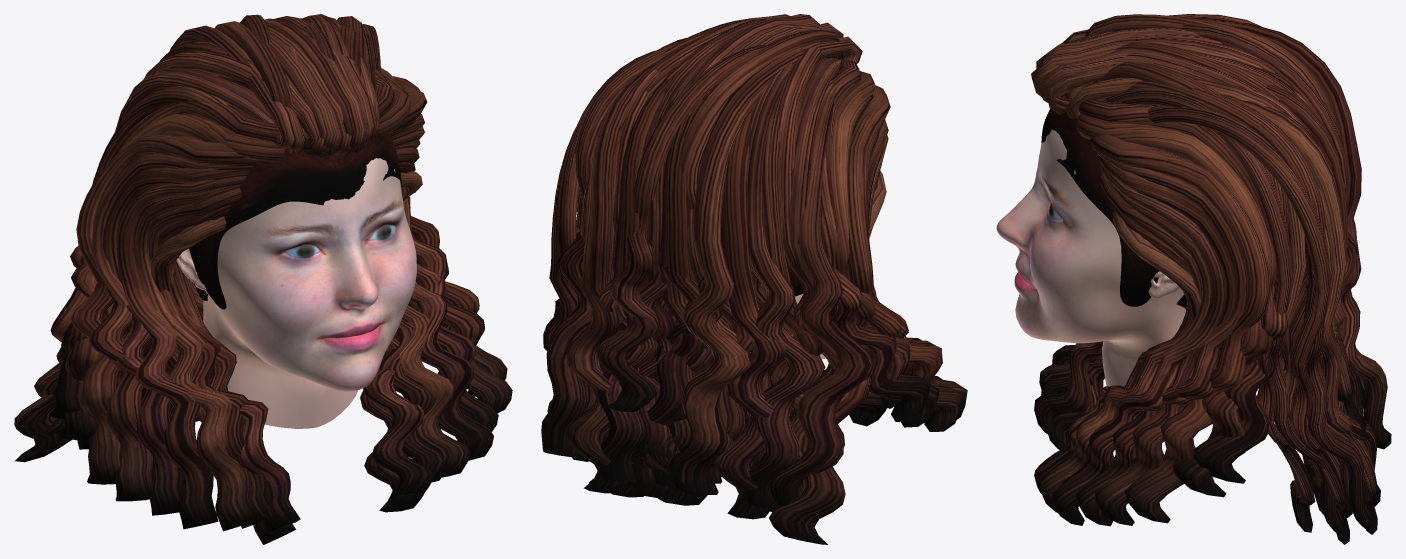
File: sad.obj
3 renders of one model, left to right at view 1: azimuth 30°, elevation 25°; view 2: azimuth 150°, elevation 25°; view 3: azimuth 270°, elevation 25°, orthographic. The views are drawn at different scales.
Parts seen in each view (by area): view 1: sad; view 2: sad; view 3: sad.
Boxes of the visible parts, x1=… form: sad: x1=14, y1=14, x2=512, y2=544; sad: x1=541, y1=14, x2=967, y2=544; sad: x1=996, y1=14, x2=1391, y2=544.
Bounding box in the file's own units: 365 × 387 × 298.
